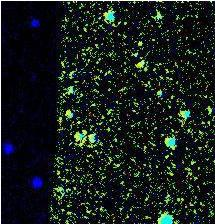star: (70, 116, 100, 146)
